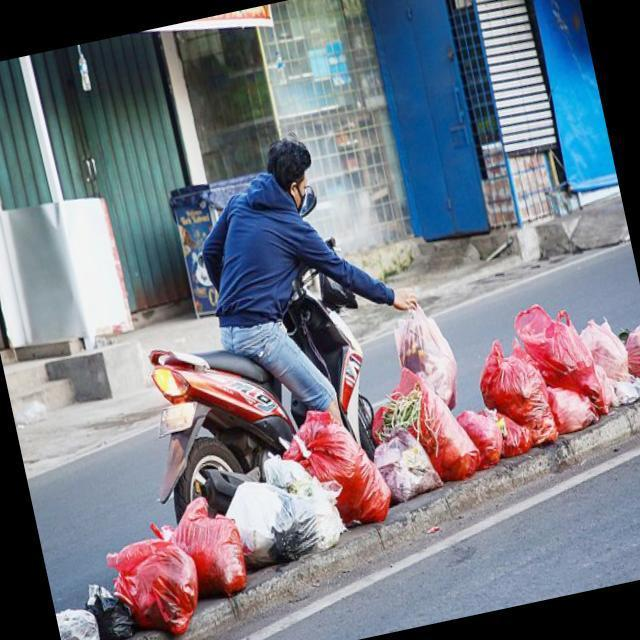garbage: (36, 481, 257, 640), (348, 294, 510, 508), (463, 277, 640, 460), (212, 442, 360, 604), (276, 395, 398, 545)
